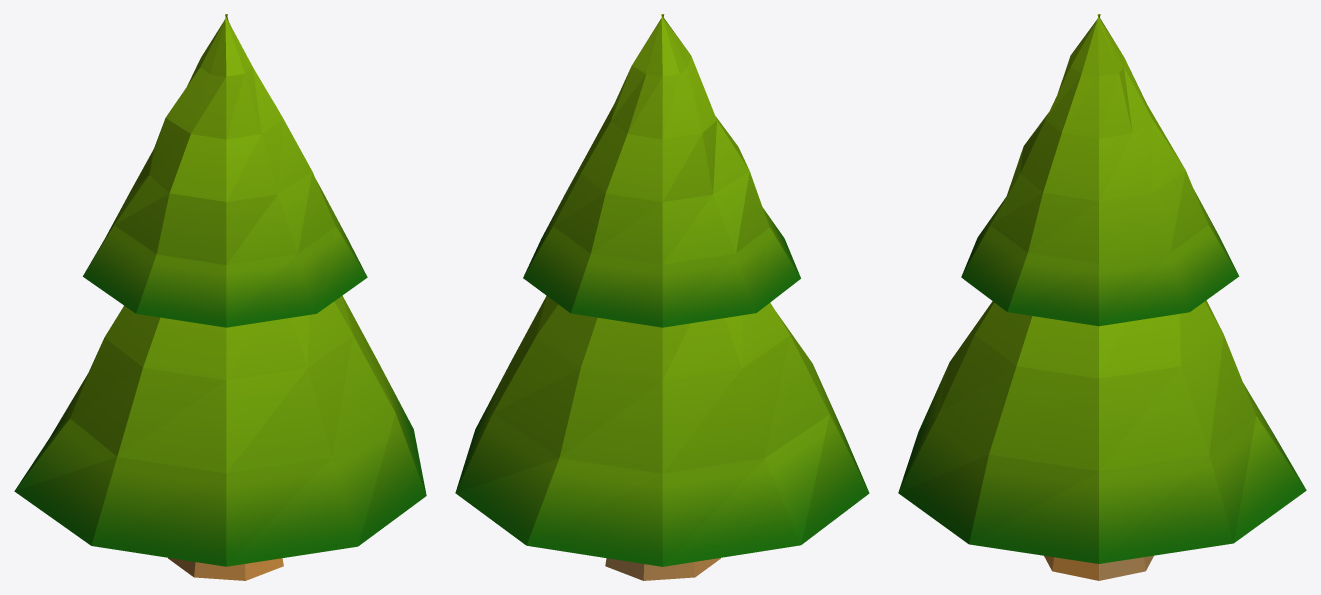
Rendered from tamme_green_final.fbx.
3 renders of one model, left to right at view 1: azimuth 30°, elevation 25°; view 2: azimuth 150°, elevation 25°; view 3: azimuth 270°, elevation 25°, orthographic.
Visible parts, largest first — view 1: tanne_final_1; view 2: tanne_final_1; view 3: tanne_final_1.
Part boxes in pixels (x1=…): tanne_final_1: x1=14, y1=14, x2=426, y2=580; tanne_final_1: x1=455, y1=14, x2=869, y2=580; tanne_final_1: x1=898, y1=14, x2=1306, y2=580.
Bounding box in the file's own units: 596 × 852 × 584.
